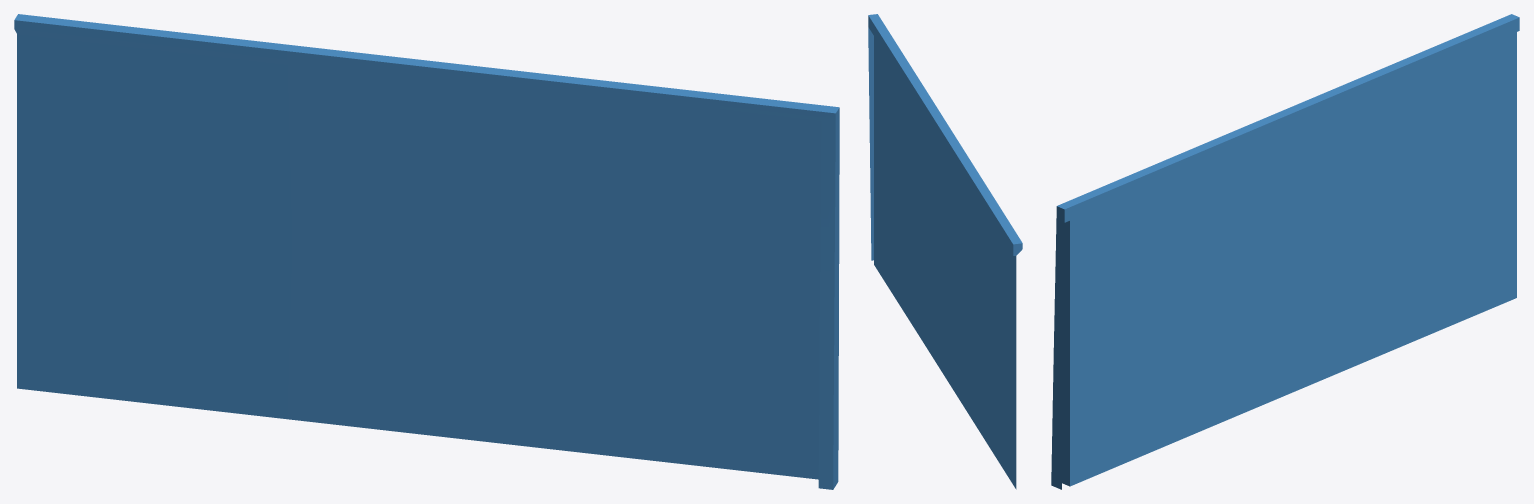
File: Pod_Wall_Cor_D.fbx
The picture shows the model from 3 angles, left to right: view 1: azimuth 30°, elevation 25°; view 2: azimuth 150°, elevation 25°; view 3: azimuth 270°, elevation 25°; orthographic projection. The views are drawn at different scales.
Visible parts, largest first — view 1: Pod_Wall_Cor_D; view 2: Pod_Wall_Cor_D; view 3: Pod_Wall_Cor_D.
Boxes of the visible parts, <box> form: Pod_Wall_Cor_D: <box>14,14,839,489</box>; Pod_Wall_Cor_D: <box>868,14,1022,489</box>; Pod_Wall_Cor_D: <box>1051,14,1519,489</box>.
Bounding box in the file's own units: 915 × 615 × 927.
